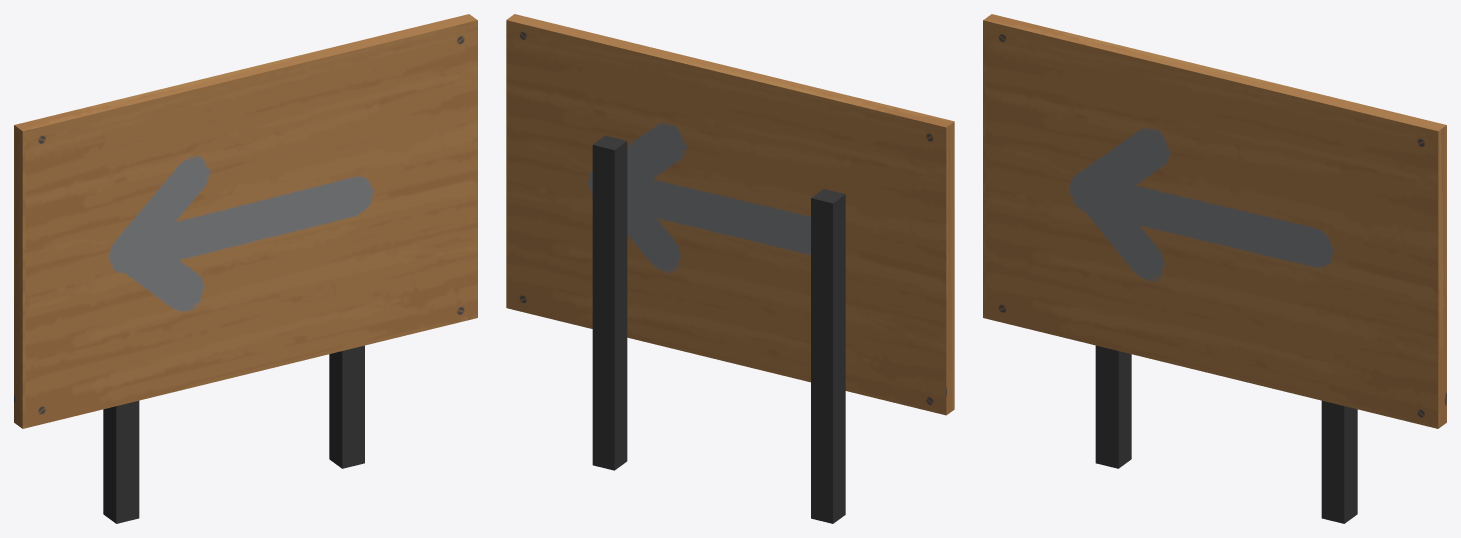
Rendered from ArrowSign.fbx.
3 views of the same model, side by side, from view 1: azimuth 30°, elevation 25°; view 2: azimuth 150°, elevation 25°; view 3: azimuth 330°, elevation 25° (orthographic). The views are drawn at different scales.
Parts seen in each view (by area): view 1: Cube.001; view 2: Cube.001; view 3: Cube.001.
Boxes of the visible parts, bbox=[...] form: Cube.001: bbox=[14, 14, 477, 523]; Cube.001: bbox=[506, 14, 954, 523]; Cube.001: bbox=[983, 14, 1446, 523].
Size of the model in its own units: 400 by 357 by 34.43.
